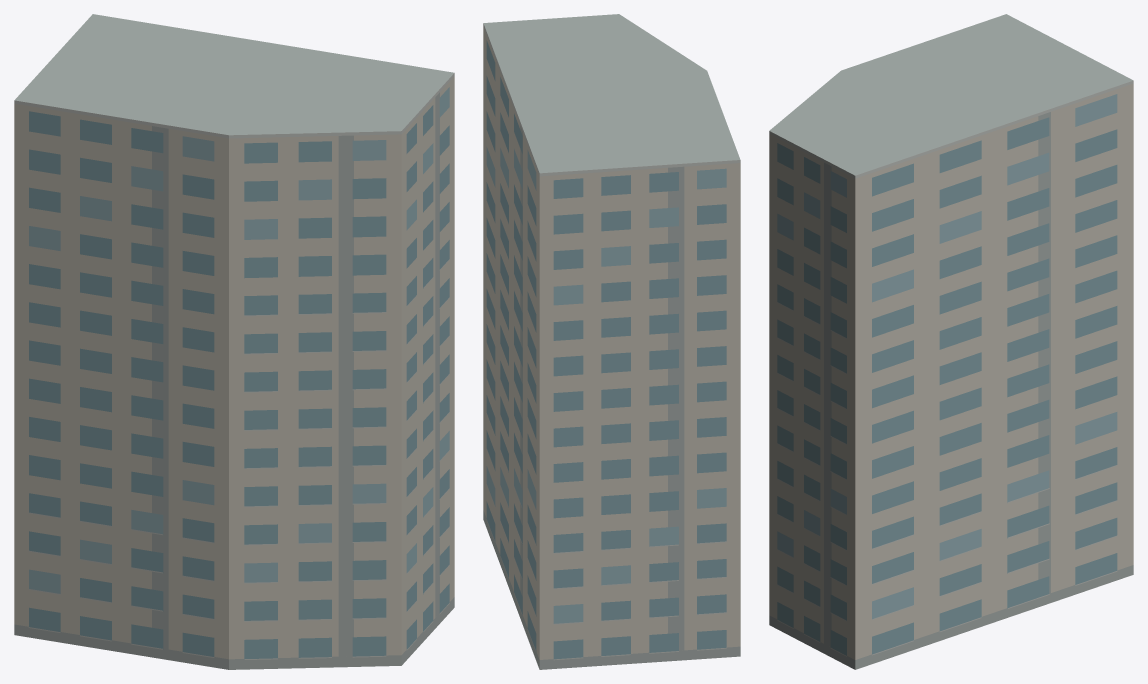
Rendered from residential-a9ad57c4-9d7c-45a1-8391-91fccdd5247f.glb.
3 renders of one model, left to right at view 1: azimuth 30°, elevation 25°; view 2: azimuth 150°, elevation 25°; view 3: azimuth 270°, elevation 25°, orthographic. The views are drawn at different scales.
Parts seen in each view (by area): view 1: residential-a9ad57c4-9d7c-45a1-8391-91fccdd5247f.tmp; view 2: residential-a9ad57c4-9d7c-45a1-8391-91fccdd5247f.tmp; view 3: residential-a9ad57c4-9d7c-45a1-8391-91fccdd5247f.tmp.
Boxes of the visible parts, left/top/right/bottom form: residential-a9ad57c4-9d7c-45a1-8391-91fccdd5247f.tmp: left=14, top=14, right=454, bottom=669; residential-a9ad57c4-9d7c-45a1-8391-91fccdd5247f.tmp: left=483, top=14, right=740, bottom=669; residential-a9ad57c4-9d7c-45a1-8391-91fccdd5247f.tmp: left=769, top=14, right=1133, bottom=669.
Bounding box in the file's own units: 28.08 × 40 × 26.75.
